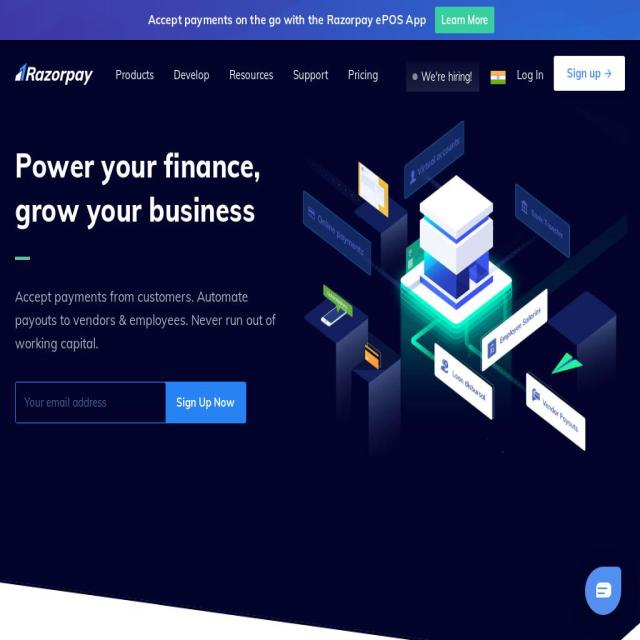button: (15, 7, 625, 33), (165, 382, 246, 422), (406, 60, 479, 92), (556, 56, 623, 90), (338, 53, 388, 96), (435, 7, 495, 33)
field: (16, 382, 166, 422)
heading: (15, 143, 610, 260)
image: (302, 100, 628, 458), (15, 60, 93, 87), (596, 578, 610, 604), (489, 69, 507, 87)
text: (15, 285, 284, 355), (148, 11, 426, 27), (229, 66, 273, 82), (115, 66, 154, 82), (567, 64, 601, 81), (174, 66, 209, 82), (293, 66, 328, 82), (348, 66, 378, 82), (517, 66, 544, 82)
